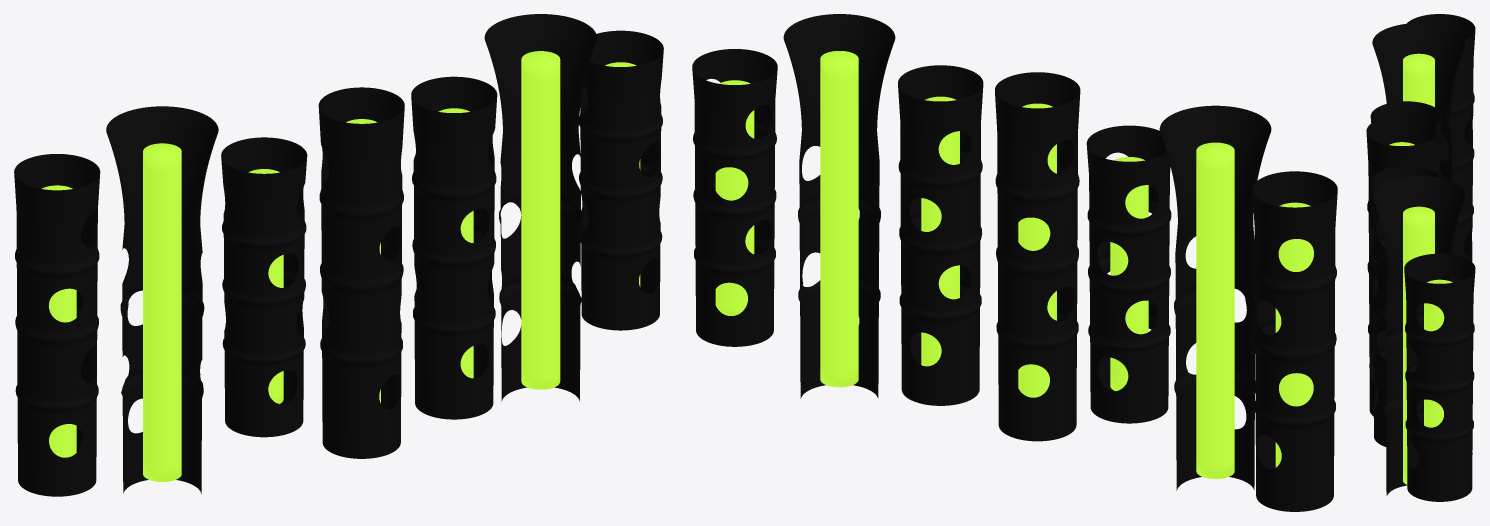
3 renders of one model, left to right at view 1: azimuth 30°, elevation 25°; view 2: azimuth 150°, elevation 25°; view 3: azimuth 270°, elevation 25°, orthographic. The views are drawn at different scales.
Parts seen in each view (by area): view 1: haniwa_3, haniwa_4, haniwa_0, haniwa_6, haniwa_2, haniwa_1, haniwa_5, core_5, core_1, core_0, core_2, core_4; view 2: haniwa_3, haniwa_0, haniwa_4, haniwa_6, haniwa_2, haniwa_5, haniwa_1, core_1, core_5, core_4, core_2, core_6 (+2 smaller); view 3: haniwa_6, haniwa_5, haniwa_1, haniwa_0, haniwa_3, haniwa_4, core_5, core_1, haniwa_2, core_6.
Boxes of the visible parts, x1,y1,x2,y2 form: haniwa_3: [318, 87, 404, 458]; haniwa_4: [411, 76, 497, 419]; haniwa_0: [14, 154, 100, 496]; haniwa_6: [579, 30, 663, 330]; haniwa_2: [221, 137, 307, 437]; haniwa_1: [106, 106, 218, 494]; haniwa_5: [484, 14, 596, 401]; core_5: [521, 51, 560, 389]; core_1: [143, 143, 181, 481]; core_0: [42, 185, 76, 457]; core_2: [248, 169, 283, 403]; core_4: [438, 108, 473, 378]; haniwa_3: [995, 72, 1080, 441]; haniwa_0: [1252, 171, 1337, 511]; haniwa_4: [898, 65, 983, 405]; haniwa_6: [692, 49, 777, 346]; haniwa_2: [1086, 125, 1171, 423]; haniwa_5: [783, 14, 895, 398]; haniwa_1: [1159, 105, 1271, 490]; core_1: [1196, 142, 1234, 479]; core_5: [820, 51, 858, 387]; core_4: [921, 96, 959, 366]; core_2: [1110, 157, 1148, 391]; core_6: [715, 80, 754, 315]; haniwa_6: [1404, 253, 1475, 501]; haniwa_5: [1372, 176, 1465, 495]; haniwa_1: [1372, 23, 1465, 254]; haniwa_0: [1407, 14, 1475, 282]; haniwa_3: [1366, 116, 1437, 415]; haniwa_4: [1370, 166, 1440, 446]; core_5: [1403, 206, 1434, 484]; core_1: [1403, 53, 1434, 107]; haniwa_2: [1370, 101, 1441, 177]; core_6: [1424, 279, 1452, 427].
Size of the model in its own units: 1.86 by 1.02 by 0.3331.
